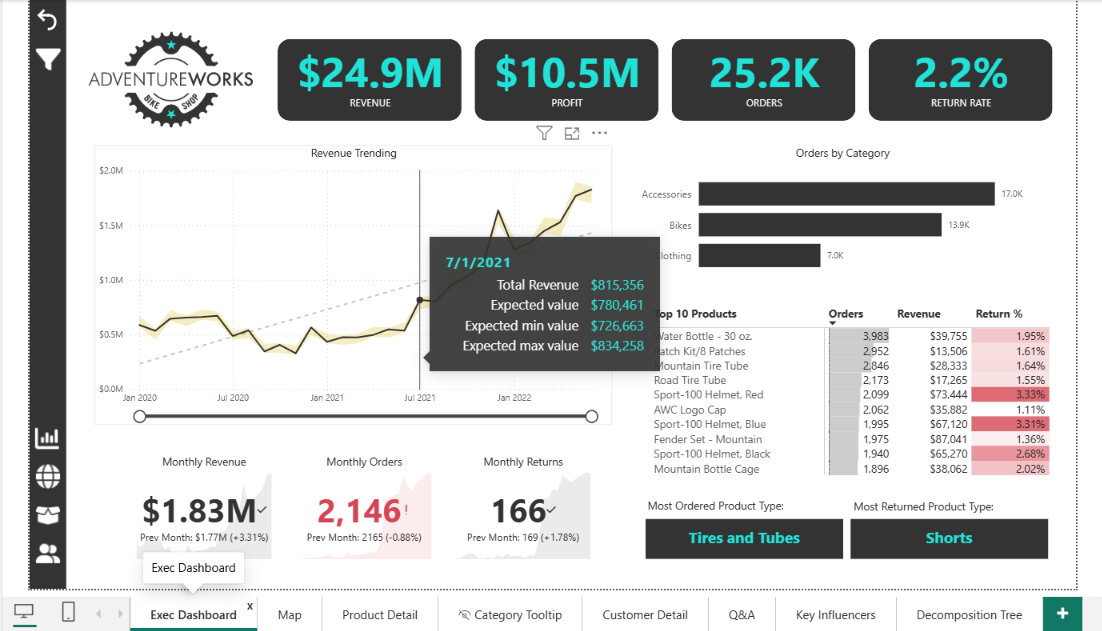

Layout of this report page (visuals, bound fields, positions):
{"tool":"powerbi","page":{"name":"Exec Dashboard","canvas":[1280,720],"ordinal":0},"visuals":[{"type":"card","fields":{"Values":["Measure Table.Total Revenue"]},"box":[288.1,17.8,256.2,150],"z":0,"group":"g2"},{"type":"image","title":"AW Logo","box":[45.6,26.6,256.2,141.2],"z":0},{"type":"shape","box":[303.1,47.8,225,100],"z":0,"group":"g1"},{"type":"actionButton","box":[2.5,516.7,45.6,37.8],"z":0,"group":"g3"},{"type":"card","fields":{"Values":["Measure Table.Total Profit"]},"box":[528.9,17.8,256.2,150],"z":1000,"group":"g2"},{"type":"shape","box":[543.9,47.8,225,100],"z":1000,"group":"g1"},{"type":"actionButton","box":[3.3,563.4,45.6,37.8],"z":1000,"group":"g3"},{"type":"card","fields":{"Values":["Measure Table.Total Orders"]},"box":[769.8,17.8,256.2,150],"z":2000,"group":"g2"},{"type":"group","id":"g1","title":"KPI Backgrounds","box":[303.1,47.8,947.5,100],"z":2000},{"type":"shape","box":[784.8,47.8,225,100],"z":2000,"group":"g1"},{"type":"actionButton","box":[3.3,611.1,45.6,37.8],"z":2000,"group":"g3"},{"type":"shape","title":"Left Nav Background","box":[0,0,45,720],"z":3000},{"type":"card","fields":{"Values":["Measure Table.Return Rate"]},"box":[1010.6,17.8,256.2,150],"z":3000,"group":"g2"},{"type":"shape","box":[1025.6,47.8,225,100],"z":3000,"group":"g1"},{"type":"actionButton","box":[3.3,657.8,45.6,37.8],"z":3000,"group":"g3"},{"type":"group","id":"g2","title":"KPI Values","box":[288.1,17.8,978.8,150],"z":4000},{"type":"lineChart","title":"Revenue Trending","fields":{"Y":["Measure Table.Total Revenue"],"Category":["Calendar Lookup.Start of Month"]},"box":[78.9,177.7,633.8,342.5],"z":5000},{"type":"kpi","title":"Monthly Revenue","fields":{"Indicator":["Measure Table.Total Revenue"],"TrendLine":["Calendar Lookup.Start of Month"],"Goal":["Measure Table.Previous Month Revenue"]},"box":[126.2,555,175,133.8],"z":6000},{"type":"kpi","title":"Monthly Orders","fields":{"TrendLine":["Calendar Lookup.Start of Month"],"Indicator":["Measure Table.Total Orders"],"Goal":["Measure Table.Previous Month Orders"]},"box":[321.2,555,175,133.8],"z":7000},{"type":"kpi","title":"Monthly Returns","fields":{"TrendLine":["Calendar Lookup.Start of Month"],"Indicator":["Measure Table.Total Returns"],"Goal":["Measure Table.Previous Month Returns"]},"box":[516.2,555,175,133.8],"z":8000},{"type":"clusteredBarChart","title":"Orders by Category","fields":{"Category":["Product Categories Lookup.CategoryName"],"Y":["Measure Table.Total Orders"]},"box":[738.9,177.7,511.2,171.2],"z":9000},{"type":"pivotTable","fields":{"Rows":["Product Lookup.ProductName"],"Values":["Measure Table.Total Orders","Measure Table.Total Revenue","Measure Table.Return Rate"]},"box":[753.7,369.2,511.1,228.4],"z":10000},{"type":"card","fields":{"Values":["Min(Product Subcategories Lookup.SubcategoryName)"]},"box":[753.7,634.2,241.4,48.5],"z":11000},{"type":"textbox","box":[751.3,604.6,198.8,35.5],"z":12000},{"type":"card","fields":{"Values":["Min(Product Subcategories Lookup.SubcategoryName)"]},"box":[1004.1,634.2,241.4,48.5],"z":13000},{"type":"textbox","box":[1002.2,605.2,198.8,35.5],"z":14000},{"type":"actionButton","box":[3.3,5.6,35.6,35.6],"z":15000},{"type":"group","id":"g3","title":"Navigation Buttons","box":[2.5,516.7,46.4,178.9],"z":16000},{"type":"actionButton","box":[3.4,53.1,38.4,39.6],"z":17000}]}

Visuals, with their boxes on the page's 1280x720 design canvas (x1, y1, x2, y2). These are canvas units, not pixel positions in the 1102x631 screenshot, which may show the page scaled, cropped or inside an application window:
card - Measure Table.Total Revenue: BBox(288, 18, 544, 168)
"AW Logo" image: BBox(46, 27, 302, 168)
shape: BBox(303, 48, 528, 148)
actionButton: BBox(2, 517, 48, 554)
card - Measure Table.Total Profit: BBox(529, 18, 785, 168)
shape: BBox(544, 48, 769, 148)
actionButton: BBox(3, 563, 49, 601)
card - Measure Table.Total Orders: BBox(770, 18, 1026, 168)
"KPI Backgrounds" group: BBox(303, 48, 1251, 148)
shape: BBox(785, 48, 1010, 148)
actionButton: BBox(3, 611, 49, 649)
"Left Nav Background" shape: BBox(0, 0, 45, 720)
card - Measure Table.Return Rate: BBox(1011, 18, 1267, 168)
shape: BBox(1026, 48, 1251, 148)
actionButton: BBox(3, 658, 49, 696)
"KPI Values" group: BBox(288, 18, 1267, 168)
"Revenue Trending" lineChart: BBox(79, 178, 713, 520)
"Monthly Revenue" kpi: BBox(126, 555, 301, 689)
"Monthly Orders" kpi: BBox(321, 555, 496, 689)
"Monthly Returns" kpi: BBox(516, 555, 691, 689)
"Orders by Category" clusteredBarChart: BBox(739, 178, 1250, 349)
pivotTable - Product Lookup.ProductName x Measure Table.Total Orders: BBox(754, 369, 1265, 598)
card - Min(Product Subcategories Lookup.SubcategoryName): BBox(754, 634, 995, 683)
textbox: BBox(751, 605, 950, 640)
card - Min(Product Subcategories Lookup.SubcategoryName): BBox(1004, 634, 1246, 683)
textbox: BBox(1002, 605, 1201, 641)
actionButton: BBox(3, 6, 39, 41)
"Navigation Buttons" group: BBox(2, 517, 49, 696)
actionButton: BBox(3, 53, 42, 93)
